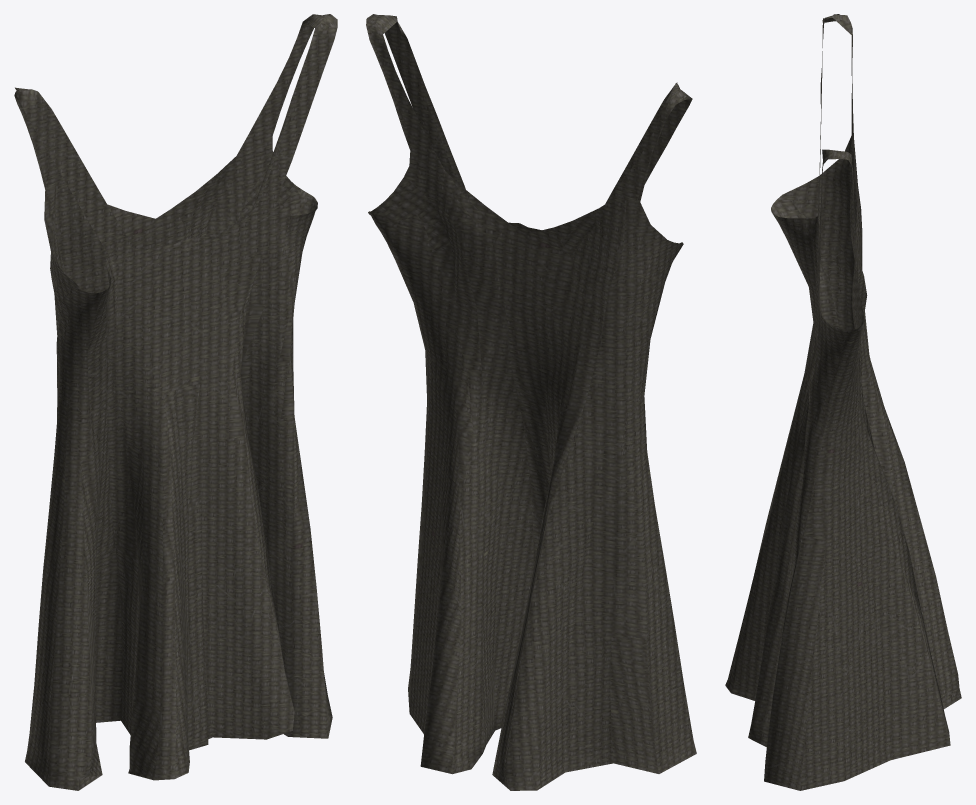
The model's file is yifu_07_01_1.fbx.
3 renders of one model, left to right at view 1: azimuth 30°, elevation 25°; view 2: azimuth 150°, elevation 25°; view 3: azimuth 270°, elevation 25°, orthographic. The views are drawn at different scales.
Parts seen in each view (by area): view 1: yifu_07_01_1; view 2: yifu_07_01_1; view 3: yifu_07_01_1.
Part boxes in pixels (bbox=[...]): yifu_07_01_1: bbox=[14, 14, 337, 790]; yifu_07_01_1: bbox=[366, 14, 696, 790]; yifu_07_01_1: bbox=[725, 14, 961, 790].
Size of the model in its own units: 39.37 by 81.55 by 27.08.
